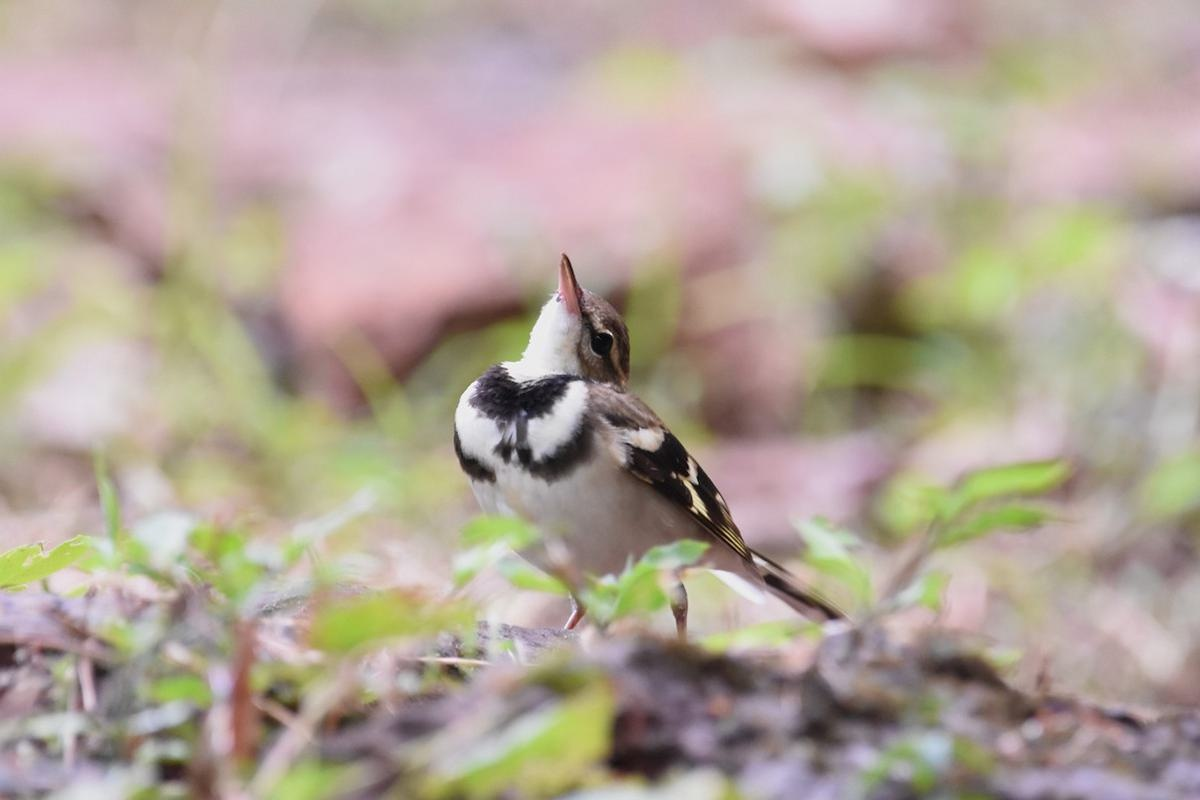wagtail: (437, 242, 800, 605)
